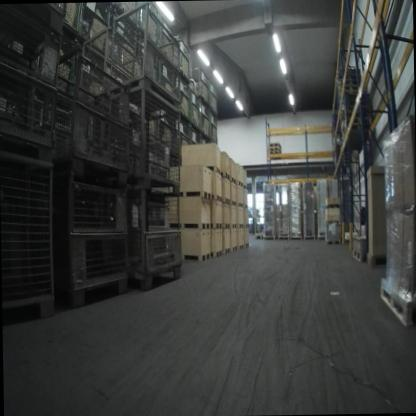pallet: (381, 277, 416, 329), (364, 252, 387, 271), (337, 76, 369, 87), (343, 124, 370, 133), (352, 248, 366, 265), (340, 110, 371, 117), (337, 85, 361, 94), (343, 116, 372, 123), (339, 74, 364, 80), (267, 141, 282, 149), (269, 151, 280, 161), (270, 147, 281, 152)
stillage: (54, 162, 138, 303), (0, 142, 59, 319), (110, 84, 187, 202), (105, 5, 183, 119), (11, 29, 77, 163), (0, 9, 62, 149), (116, 180, 190, 286), (78, 51, 128, 174), (4, 3, 72, 35), (132, 27, 160, 96), (81, 5, 114, 62), (45, 2, 80, 40), (112, 14, 133, 73), (157, 59, 175, 111), (189, 63, 211, 104), (159, 8, 175, 60), (176, 76, 193, 120), (175, 33, 191, 79), (143, 2, 161, 41), (184, 117, 202, 153), (178, 36, 190, 84), (175, 114, 192, 146), (199, 100, 212, 139), (119, 1, 141, 23), (191, 90, 203, 126), (252, 214, 266, 241), (209, 80, 218, 113), (211, 111, 219, 148)
